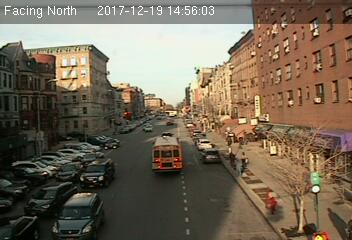car: (51, 192, 108, 240), (21, 181, 80, 218), (80, 158, 115, 190), (56, 162, 86, 181), (200, 149, 219, 164), (103, 139, 120, 150)
truck: (152, 137, 183, 176)
